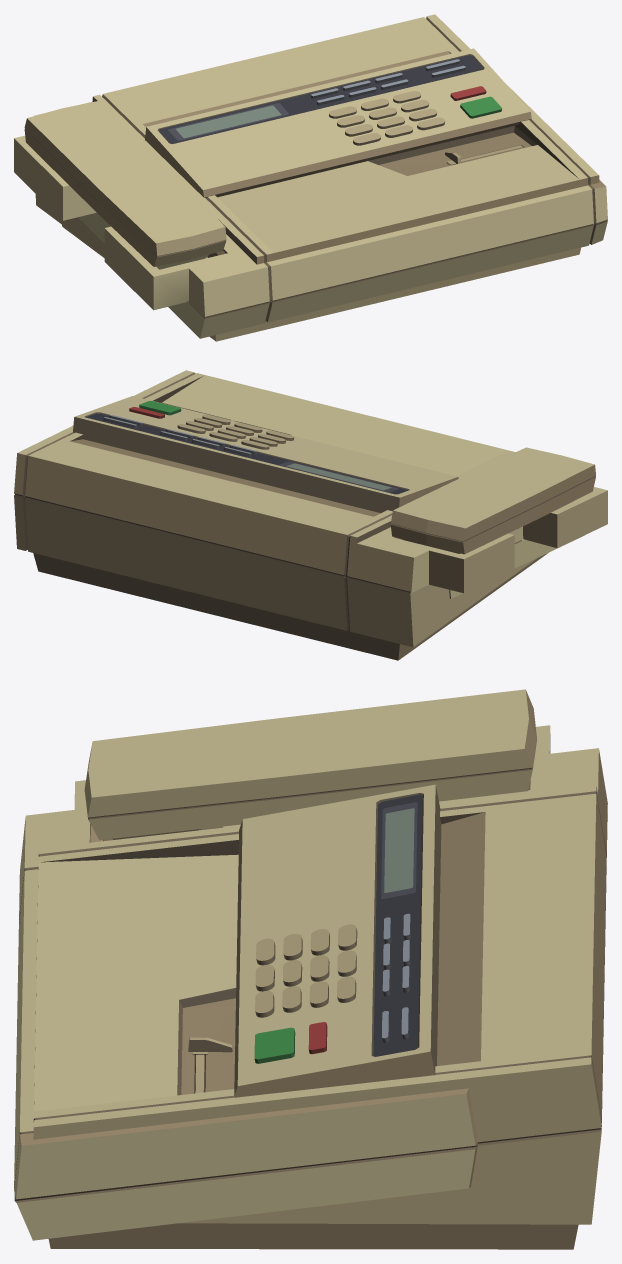
The model's file is Fax Machine.fbx.
3 views of the same model, one above another, from view 1: azimuth 30°, elevation 25°; view 2: azimuth 150°, elevation 25°; view 3: azimuth 270°, elevation 25° (orthographic). The views are drawn at different scales.
Visible parts, largest first — view 1: Cube.009, Cube.010, Cube.011, Cube.012, Cube.007, Cube.014, Cube.013; view 2: Cube.009, Cube.010, Cube.011, Cube.007, Cube.012, Cube.014, Cube.013; view 3: Cube.009, Cube.010, Cube.011, Cube.007, Cube.012, Cube.013, Cube.014.
Part boxes in pixels (left/top/right/bottom): Cube.009: left=14, top=14, right=607, bottom=338; Cube.010: left=145, top=48, right=531, bottom=197; Cube.011: left=24, top=100, right=226, bottom=269; Cube.012: left=329, top=91, right=445, bottom=145; Cube.007: left=62, top=225, right=580, bottom=341; Cube.014: left=311, top=59, right=465, bottom=105; Cube.013: left=450, top=86, right=501, bottom=118; Cube.009: left=14, top=370, right=607, bottom=647; Cube.010: left=73, top=396, right=458, bottom=512; Cube.011: left=390, top=447, right=595, bottom=554; Cube.007: left=33, top=553, right=547, bottom=660; Cube.012: left=177, top=415, right=294, bottom=449; Cube.014: left=103, top=415, right=257, bottom=456; Cube.013: left=129, top=401, right=181, bottom=418; Cube.009: left=14, top=725, right=607, bottom=1240; Cube.010: left=234, top=784, right=441, bottom=1097; Cube.011: left=84, top=689, right=536, bottom=840; Cube.007: left=48, top=1223, right=578, bottom=1249; Cube.012: left=255, top=924, right=357, bottom=1017; Cube.013: left=254, top=1022, right=327, bottom=1063; Cube.014: left=382, top=913, right=411, bottom=1042.
Bounding box in the file's own units: 78.41 × 22.78 × 54.85.
